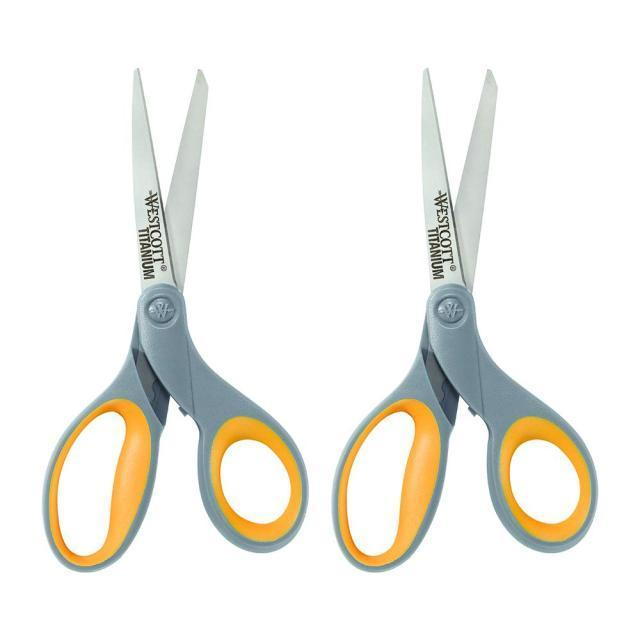scissor: (330, 67, 600, 576), (46, 67, 306, 580)
